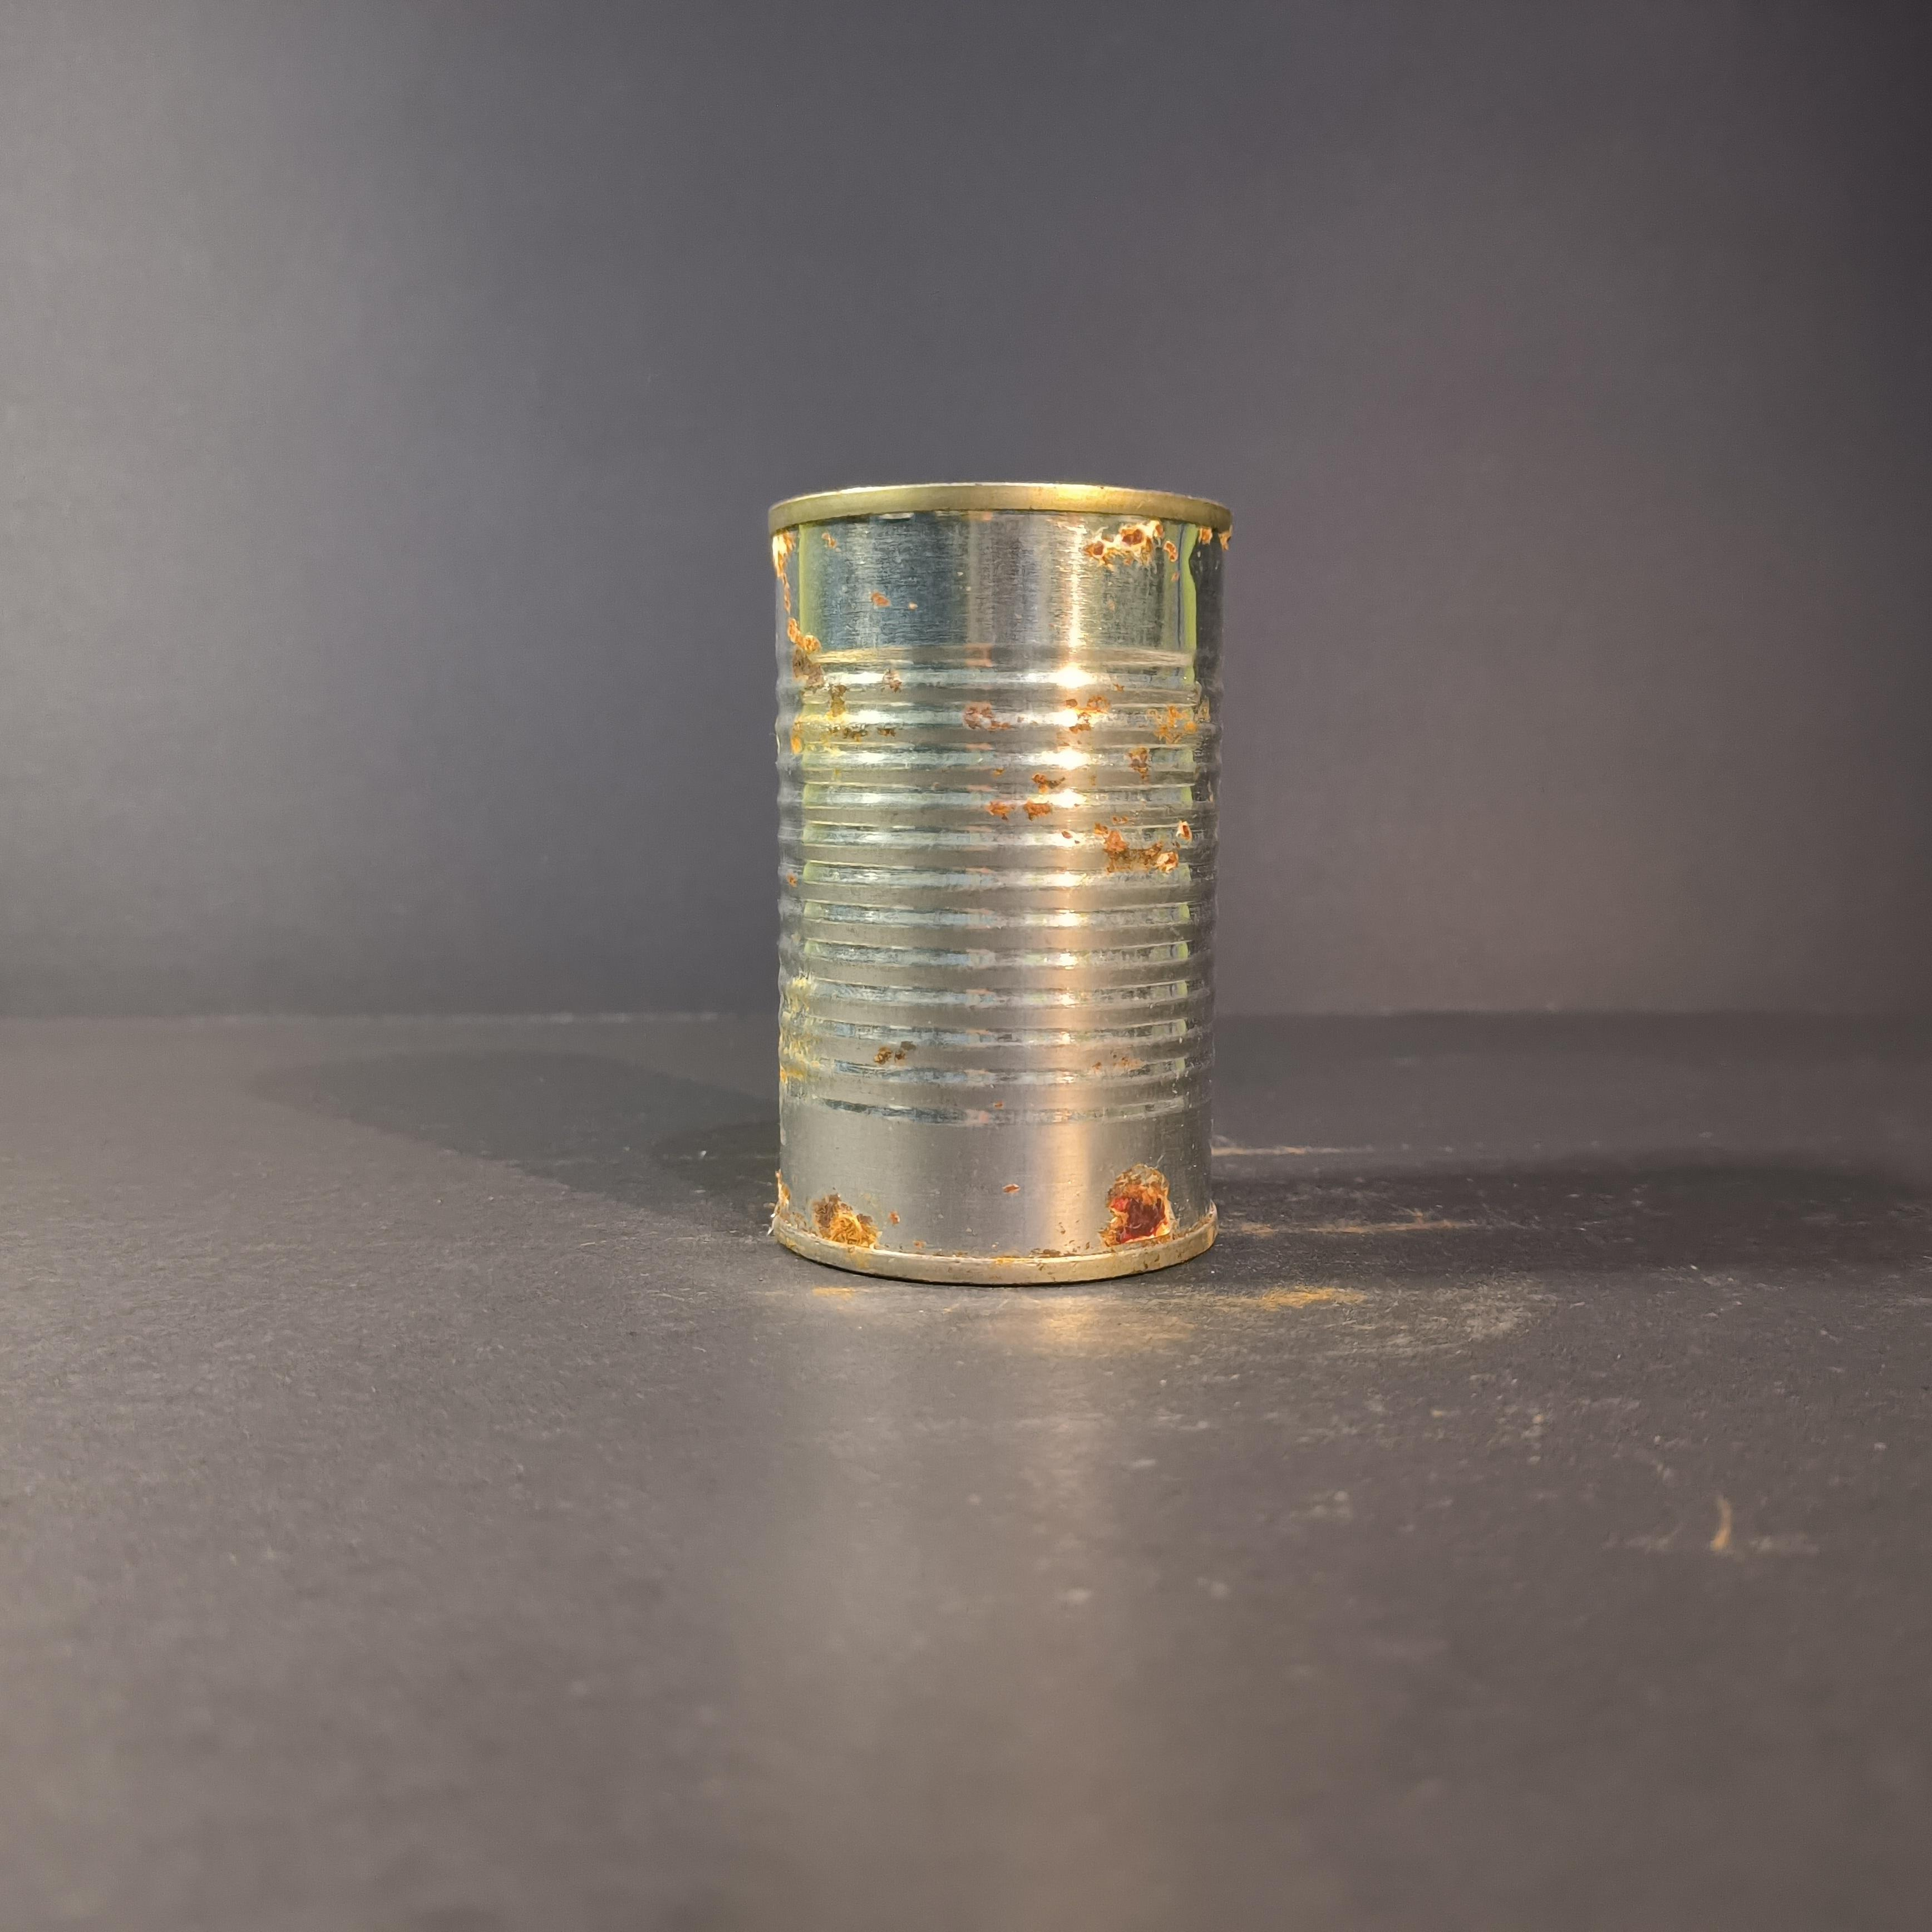Rusted: (748, 431, 1241, 1310)
